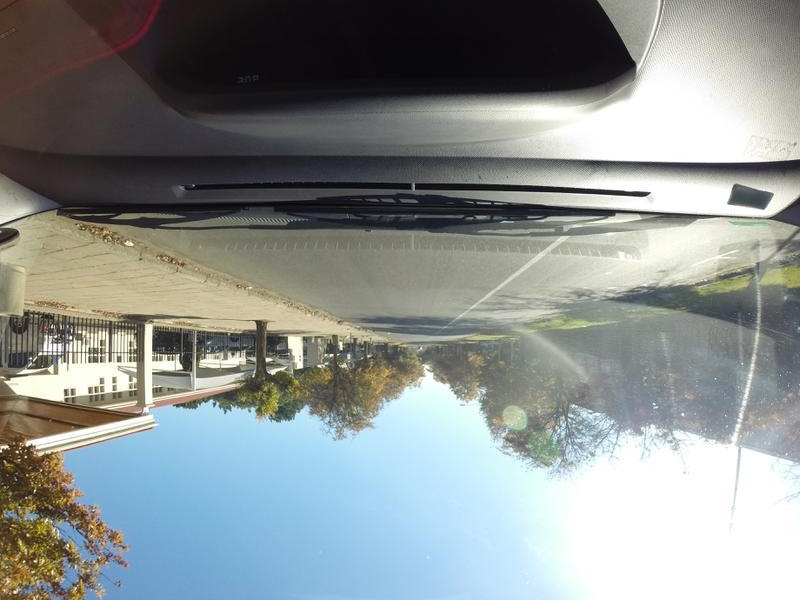pothole: (564, 285, 596, 298)
